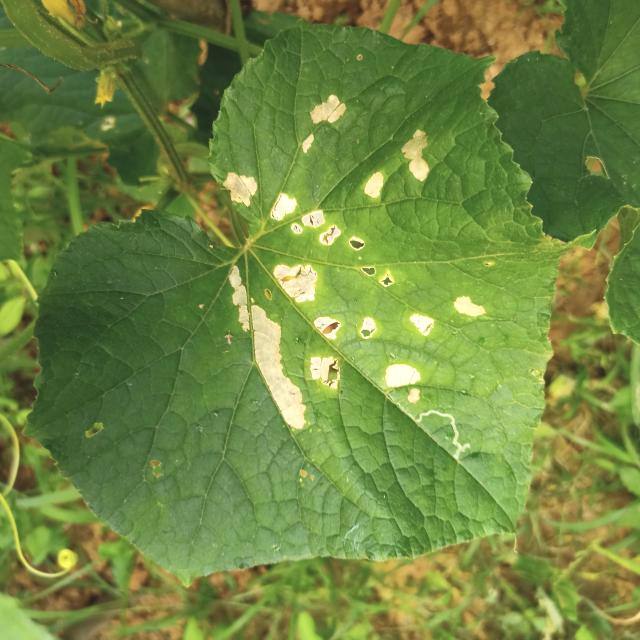disease_cucumber: (219, 163, 485, 432), (359, 124, 436, 200), (296, 91, 349, 152)
